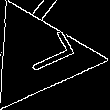L_SW: (6, 31, 72, 82)
